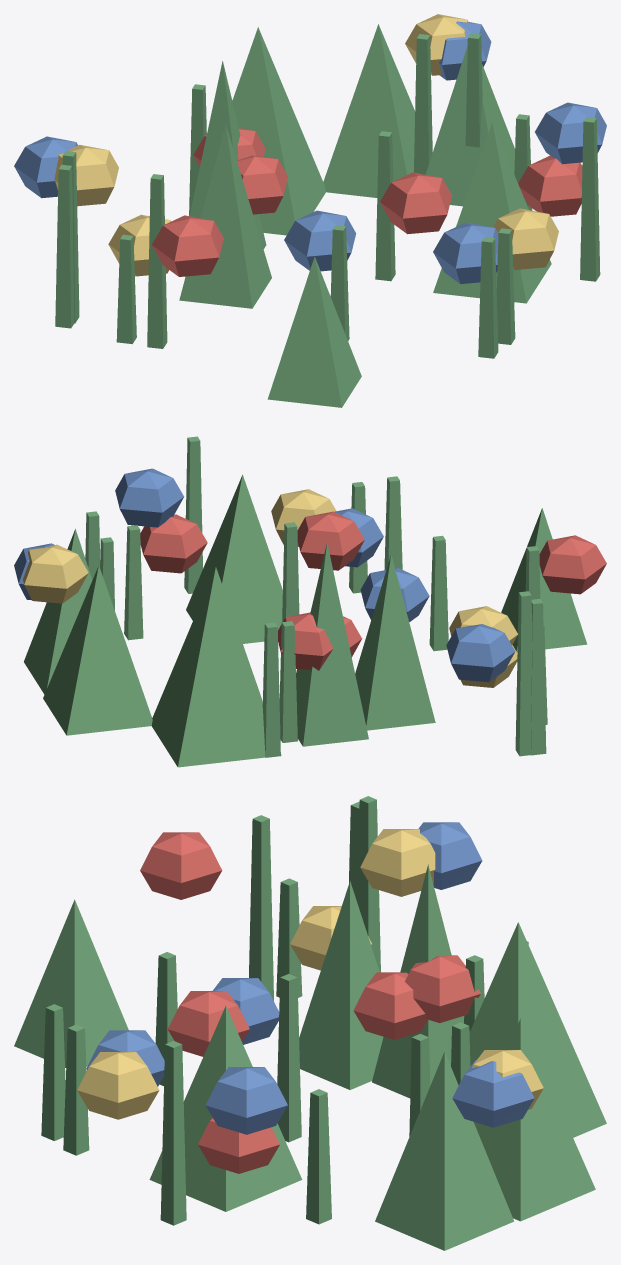
The model's file is town_flower_patch.glb.
3 views of the same model, one above another, from view 1: azimuth 30°, elevation 25°; view 2: azimuth 150°, elevation 25°; view 3: azimuth 270°, elevation 25° (orthographic). The views are drawn at different scales.
Visible parts, largest first — view 1: world; view 2: world; view 3: world.
Boxes of the visible parts, x1,y1,x2,y2 form: world: [14, 14, 606, 407]; world: [14, 436, 606, 767]; world: [14, 796, 606, 1250].
Bounding box in the file's own units: 2 × 0.7359 × 1.81.
